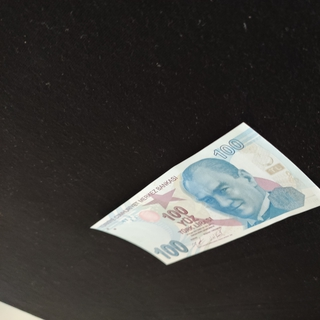100TLFront: (89, 121, 320, 266)
